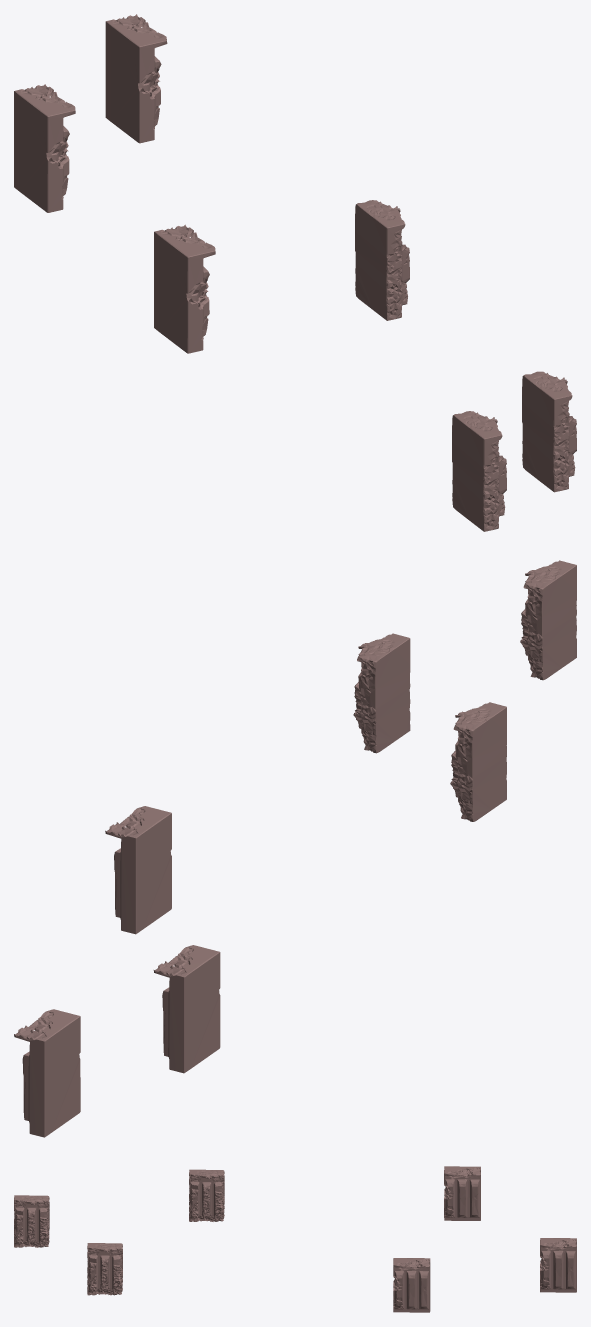
File: 墙面装饰.fbx
3 views of the same model, one above another, from view 1: azimuth 30°, elevation 25°; view 2: azimuth 150°, elevation 25°; view 3: azimuth 270°, elevation 25° (orthographic). The views are drawn at different scales.
Visible parts, largest first — view 1: detal zniszczony.001, detal zniszczony.002, detal zniszczony.004, detal zniszczony.003, detal zniszczony.005, detal zniszczony.006; view 2: detal zniszczony.002, detal zniszczony.004, detal zniszczony.001, detal zniszczony.006, detal zniszczony.005, detal zniszczony.003; view 3: detal zniszczony.002, detal zniszczony.004, detal zniszczony.001, detal zniszczony.005, detal zniszczony.003, detal zniszczony.006.
Boxes of the visible parts, x1,y1,x2,y2 form: detal zniszczony.001: (105,14,167,143); detal zniszczony.002: (154,224,215,353); detal zniszczony.004: (14,84,75,212); detal zniszczony.003: (452,411,506,531); detal zniszczony.005: (522,371,576,492); detal zniszczony.006: (355,200,409,320); detal zniszczony.002: (153,945,220,1073); detal zniszczony.004: (14,1009,80,1137); detal zniszczony.001: (105,806,171,934); detal zniszczony.006: (353,633,410,753); detal zniszczony.005: (520,560,576,680); detal zniszczony.003: (450,702,506,821); detal zniszczony.002: (393,1258,430,1312); detal zniszczony.004: (540,1238,576,1292); detal zniszczony.001: (444,1166,480,1220); detal zniszczony.005: (14,1195,49,1247); detal zniszczony.003: (87,1243,122,1295); detal zniszczony.006: (189,1169,224,1221).
Size of the model in its own units: 68.61 by 498 by 1784.
